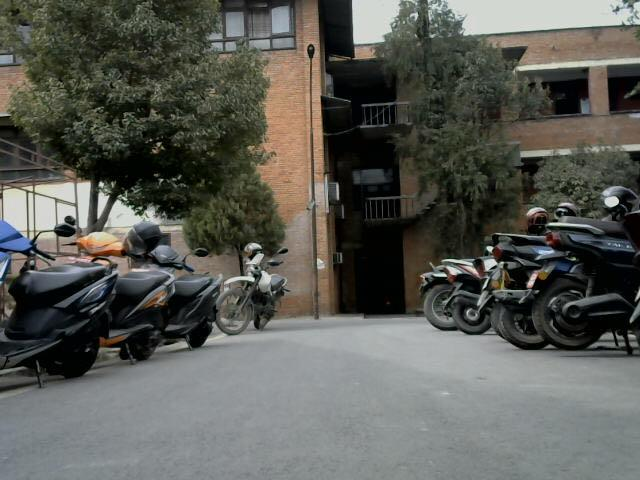Electrical Pole: (300, 42, 323, 322)
Motorcycle: (1, 211, 288, 391), (414, 185, 640, 361)
Road: (53, 331, 640, 479)
Tree: (4, 2, 273, 202), (377, 3, 519, 201)
